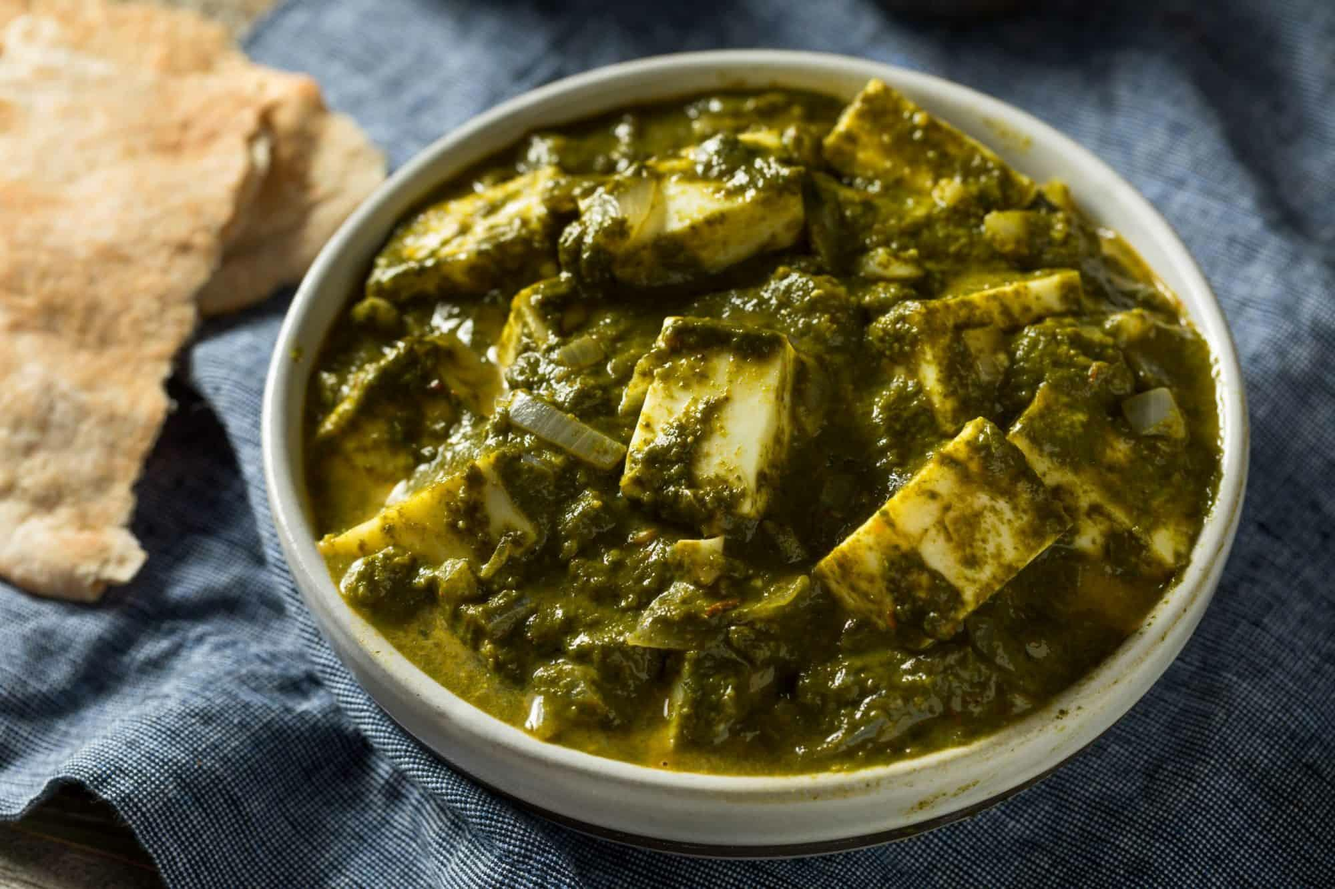PalakPaneer: (321, 96, 1211, 756)
